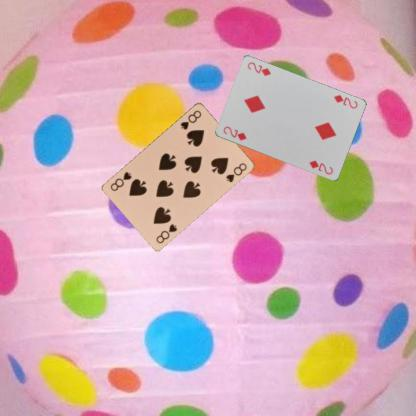2d: (331, 92, 359, 110), (221, 124, 248, 142)
8s: (178, 107, 202, 130), (154, 221, 178, 244)
